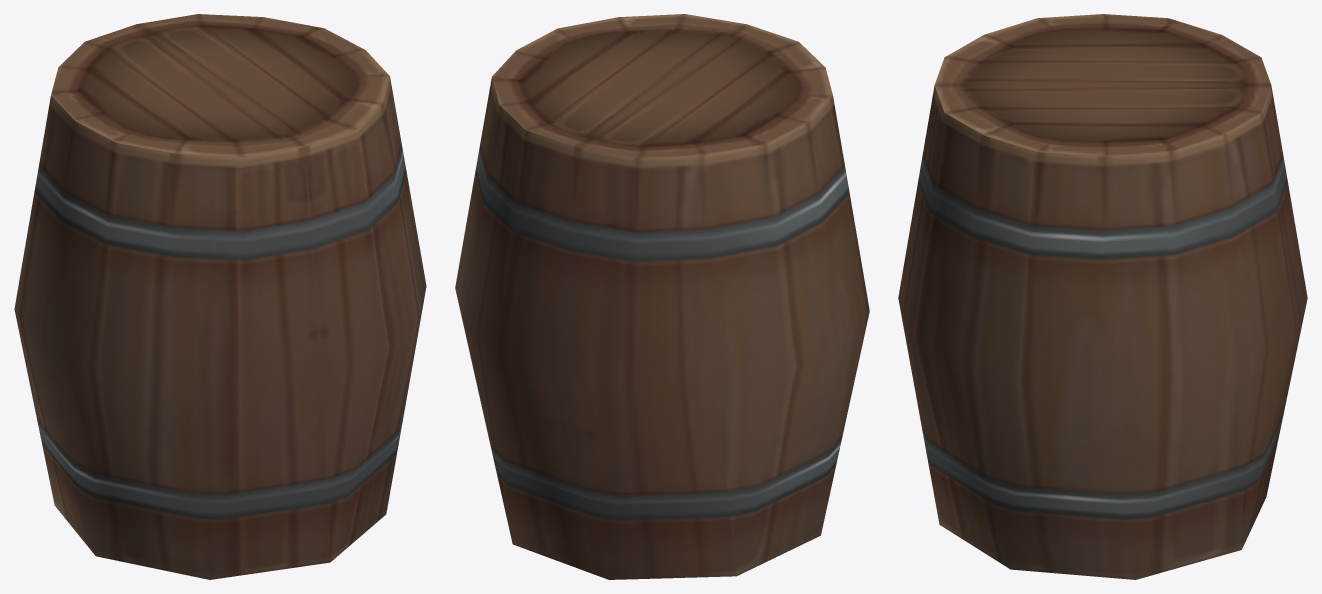
The model's file is SM_ZSJ_mutong001.FBX.
3 views of the same model, side by side, from view 1: azimuth 30°, elevation 25°; view 2: azimuth 150°, elevation 25°; view 3: azimuth 270°, elevation 25° (orthographic).
Visible parts, largest first — view 1: SM_ZSJ_mutong001; view 2: SM_ZSJ_mutong001; view 3: SM_ZSJ_mutong001.
Part boxes in pixels (x1,y1,x2,y2): SM_ZSJ_mutong001: (14, 14, 426, 579); SM_ZSJ_mutong001: (455, 14, 869, 579); SM_ZSJ_mutong001: (898, 14, 1307, 579).
Bounding box in the file's own units: 75.29 × 86.38 × 75.29.
